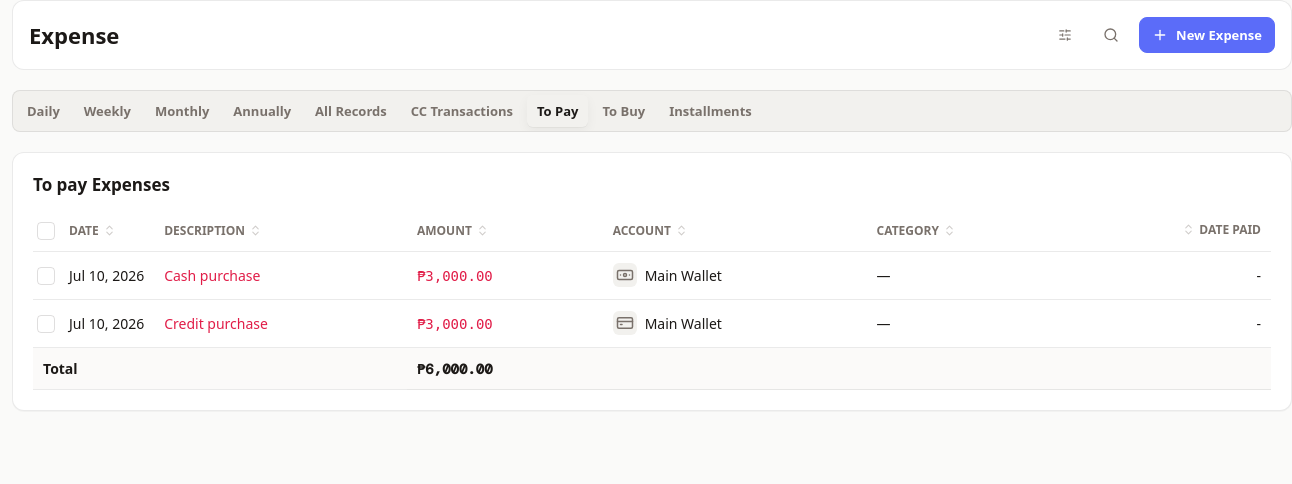
Test case: To Pay filters All Debit Accounts without sending a synthetic account ID
Check: the text "Cash purchase" is shown, box [164, 266, 260, 285]
Click the button named "Filters": (1065, 35) [1047, 19, 1083, 51]
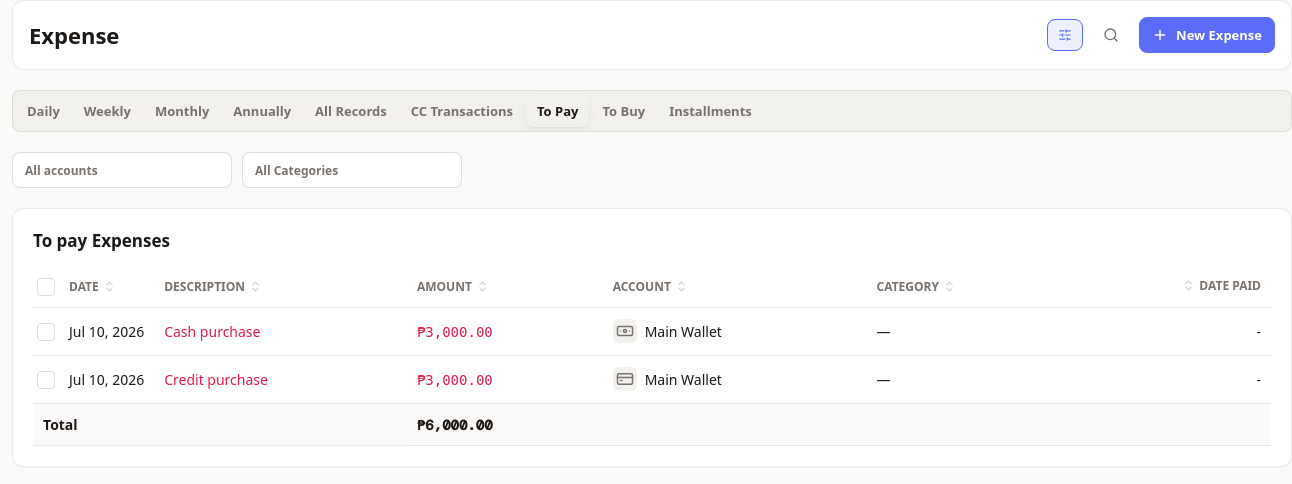
Click the button "All accounts": (122, 170) [12, 152, 232, 188]
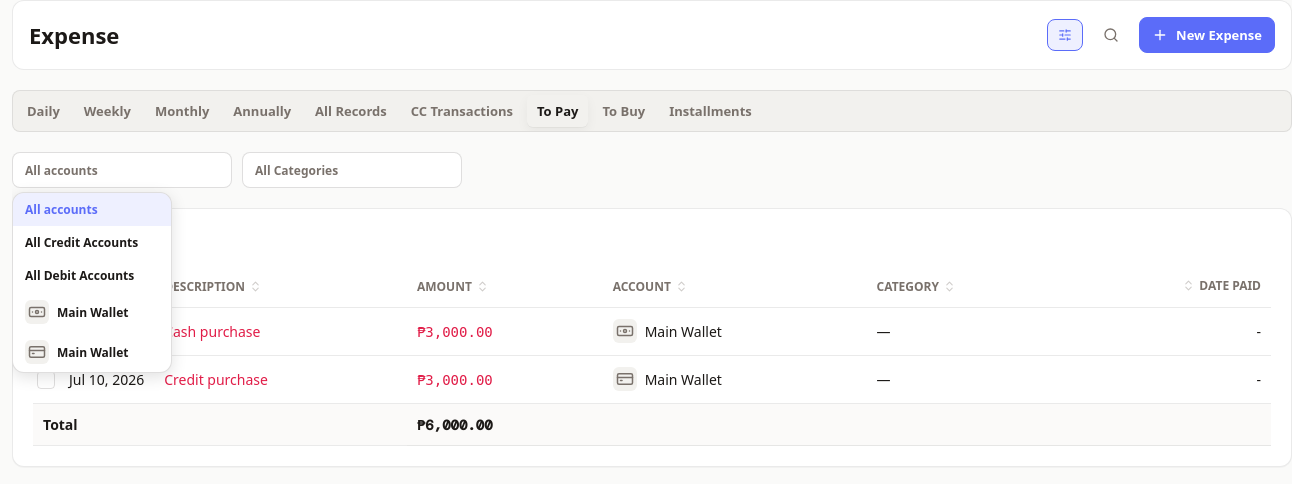
Click the button "All Debit Accounts": (92, 276) [13, 259, 171, 292]
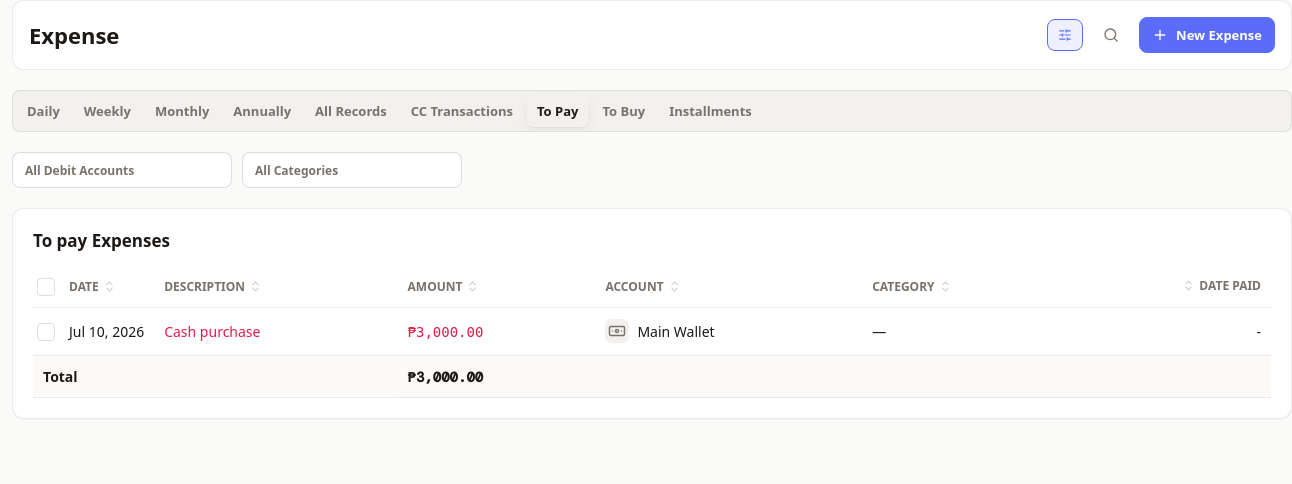
Check: the text "Cash purchase" is shown, box [164, 322, 260, 341]
Check: the text "Credit purchase" is gone
